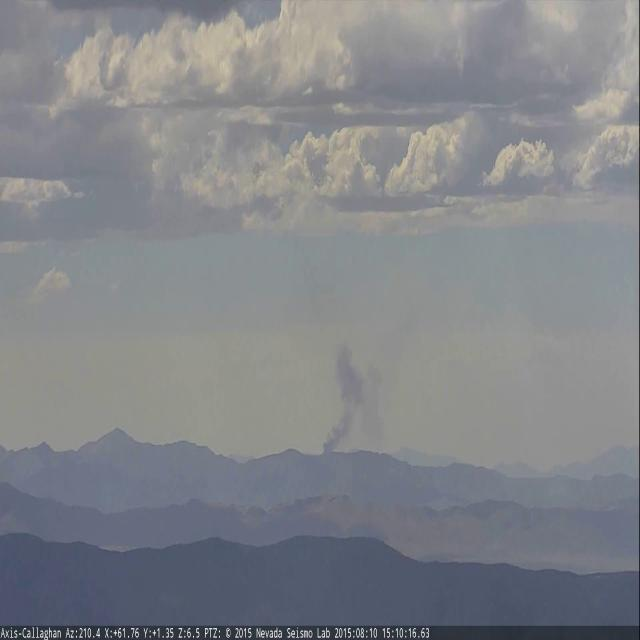smoke: (318, 344, 397, 458)
